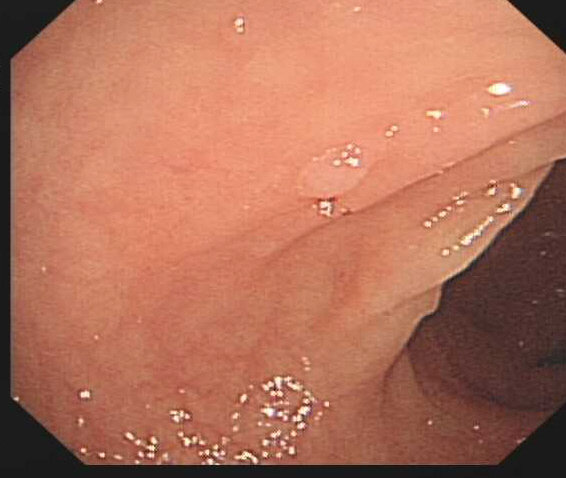others: (293, 142, 377, 201)
